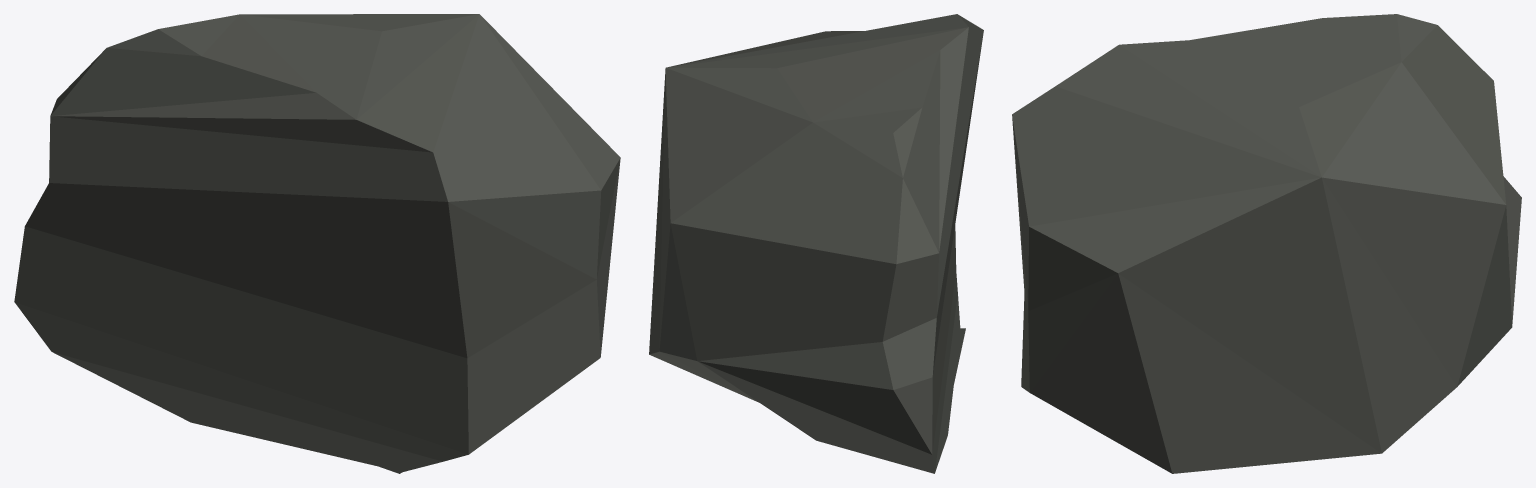
File: S_Rock_01.fbx
3 renders of one model, left to right at view 1: azimuth 30°, elevation 25°; view 2: azimuth 150°, elevation 25°; view 3: azimuth 270°, elevation 25°, orthographic. The views are drawn at different scales.
Visible parts, largest first — view 1: S_Rock_01; view 2: S_Rock_01; view 3: S_Rock_01.
Part boxes in pixels (<box>): S_Rock_01: <box>14,14,620,473</box>; S_Rock_01: <box>649,14,983,473</box>; S_Rock_01: <box>1012,14,1521,473</box>.
Size of the model in its own units: 32.65 by 26.81 by 35.02.
Materials: 1 (1 with a texture image).
